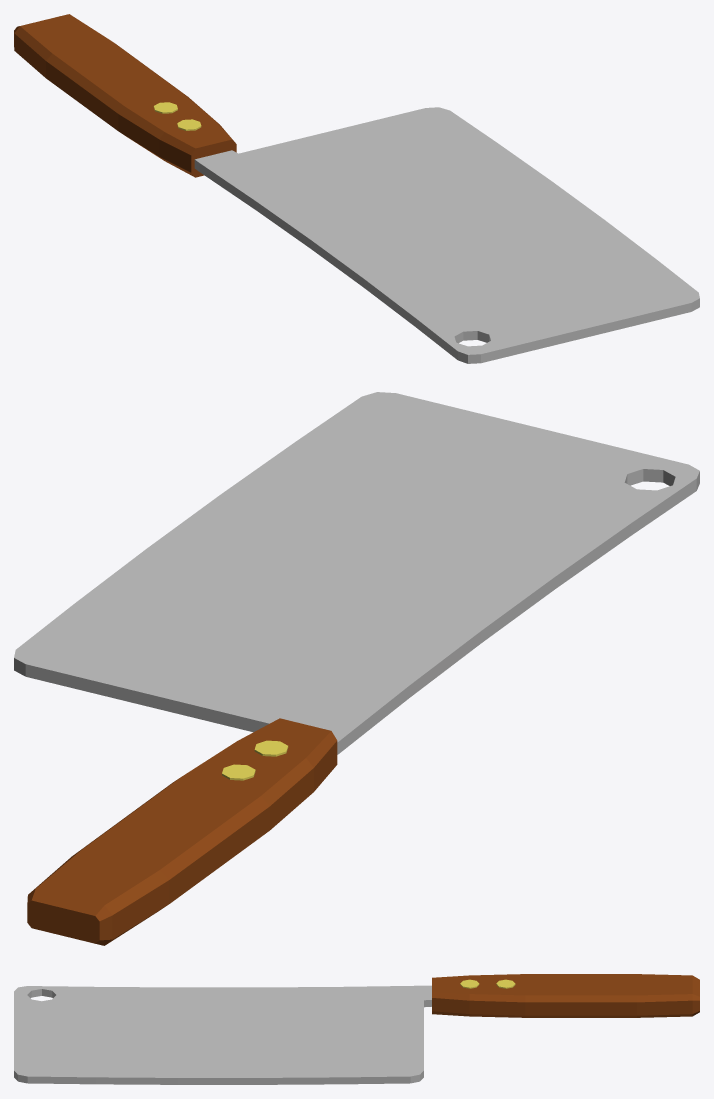
Rendered from Cuchillo_Carnicero.fbx.
3 views of the same model, one above another, from view 1: azimuth 30°, elevation 25°; view 2: azimuth 150°, elevation 25°; view 3: azimuth 270°, elevation 25° (orthographic). The views are drawn at different scales.
Parts seen in each view (by area): view 1: Cuchillo_Carnicero; view 2: Cuchillo_Carnicero; view 3: Cuchillo_Carnicero.
Part boxes in pixels (x1,y1,x2,y2): Cuchillo_Carnicero: [14, 14, 699, 363]; Cuchillo_Carnicero: [14, 392, 699, 945]; Cuchillo_Carnicero: [14, 974, 699, 1084].
Bounding box in the file's own units: 17.18 × 1.92 × 50.75.
